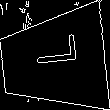L_W: (28, 43, 79, 78)
